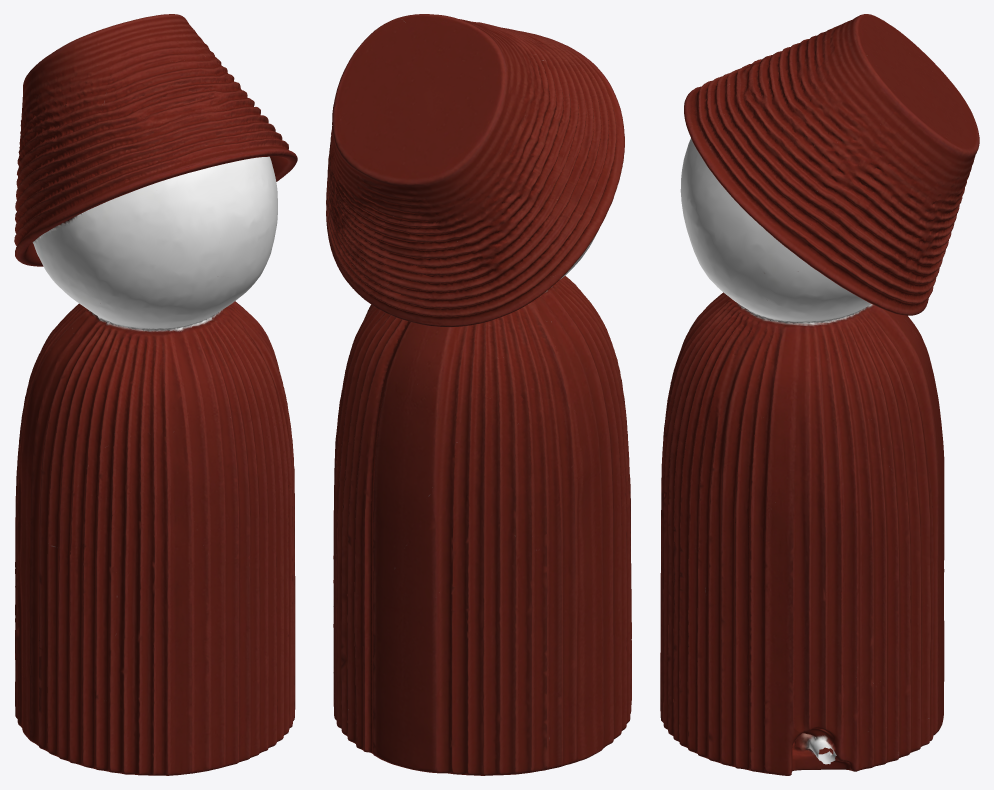
Rendered from Untitledar.glb.
3 views of the same model, side by side, from view 1: azimuth 30°, elevation 25°; view 2: azimuth 150°, elevation 25°; view 3: azimuth 270°, elevation 25° (orthographic). The views are drawn at different scales.
Parts seen in each view (by area): view 1: Mesh_0; view 2: Mesh_0; view 3: Mesh_0.
Part boxes in pixels (x1,y1,x2,y2): Mesh_0: [14, 14, 297, 775]; Mesh_0: [326, 14, 631, 775]; Mesh_0: [660, 14, 979, 775].
Bounding box in the file's own units: 0.7336 × 1.9 × 0.7937.
1 material, 1 textured.
